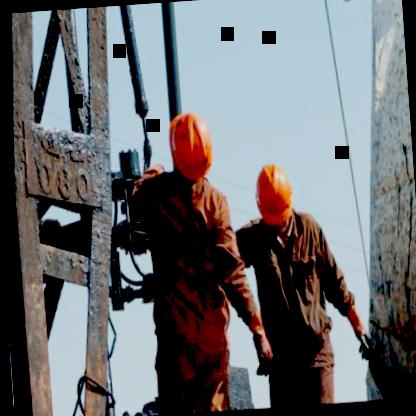helmet: (165, 106, 221, 188), (250, 156, 301, 240)
